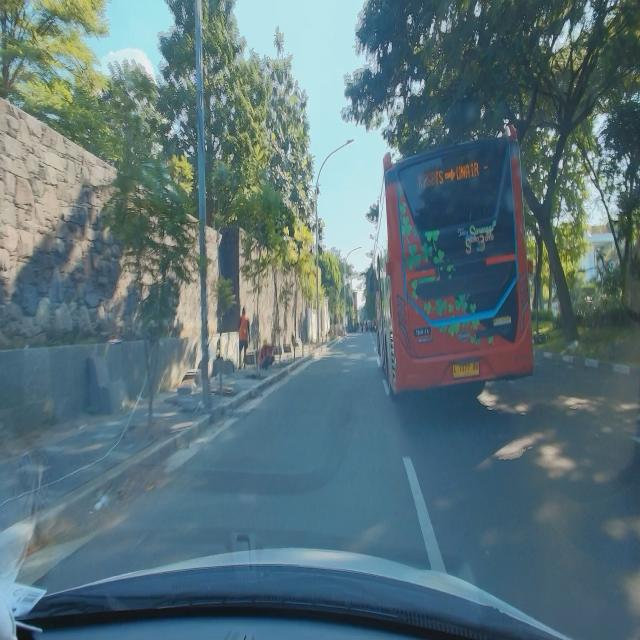bus: (368, 122, 537, 403)
license-plate: (452, 361, 480, 379)
